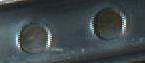joints: (89, 4, 129, 43), (15, 18, 54, 56)
